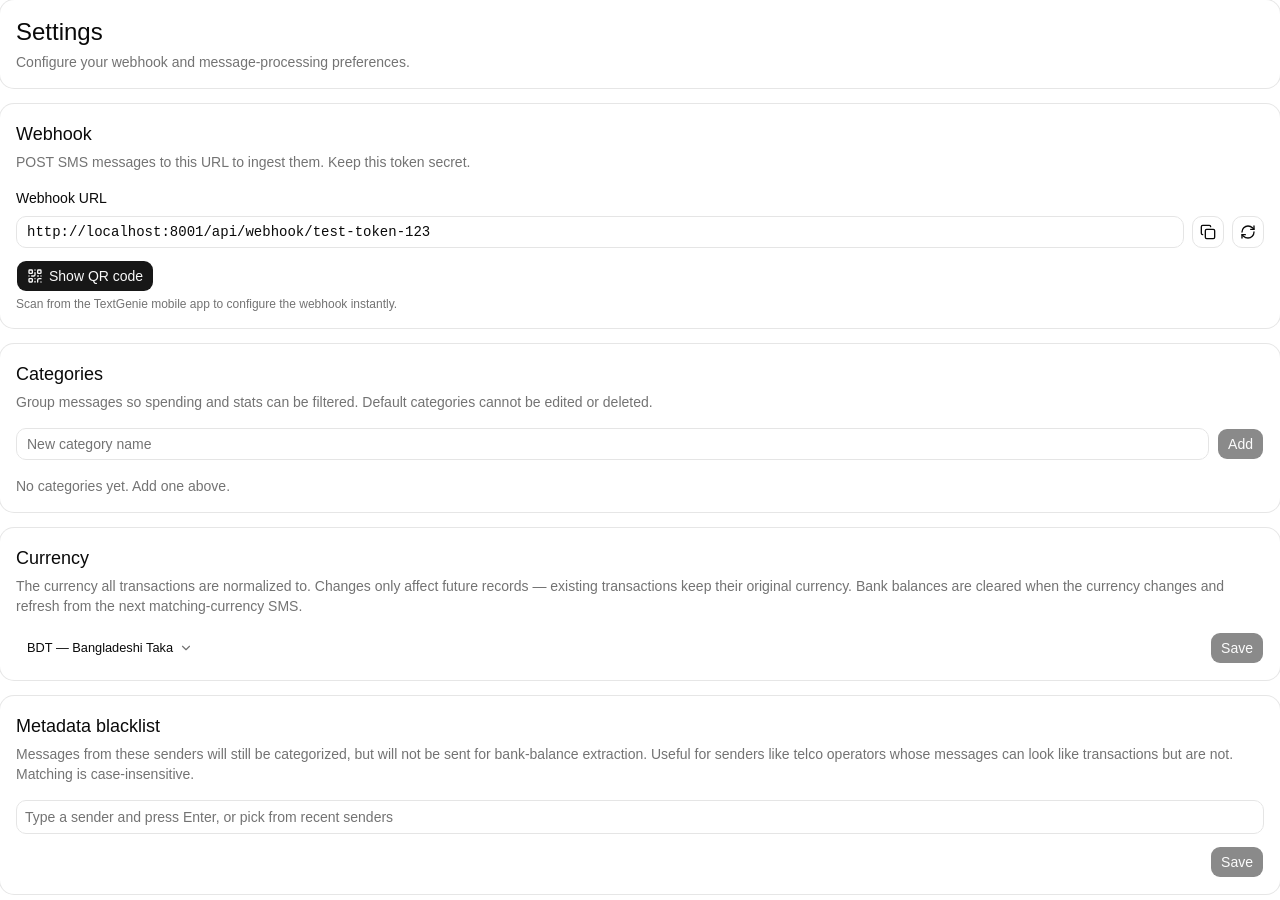
Test: SettingsPage › adds a sender chip and saves the blacklist
Type "telco" into the dropdown named "Blacklisted senders".
click(640, 817); type("telco")  # box [25, 807, 1255, 827]
Then press Enter
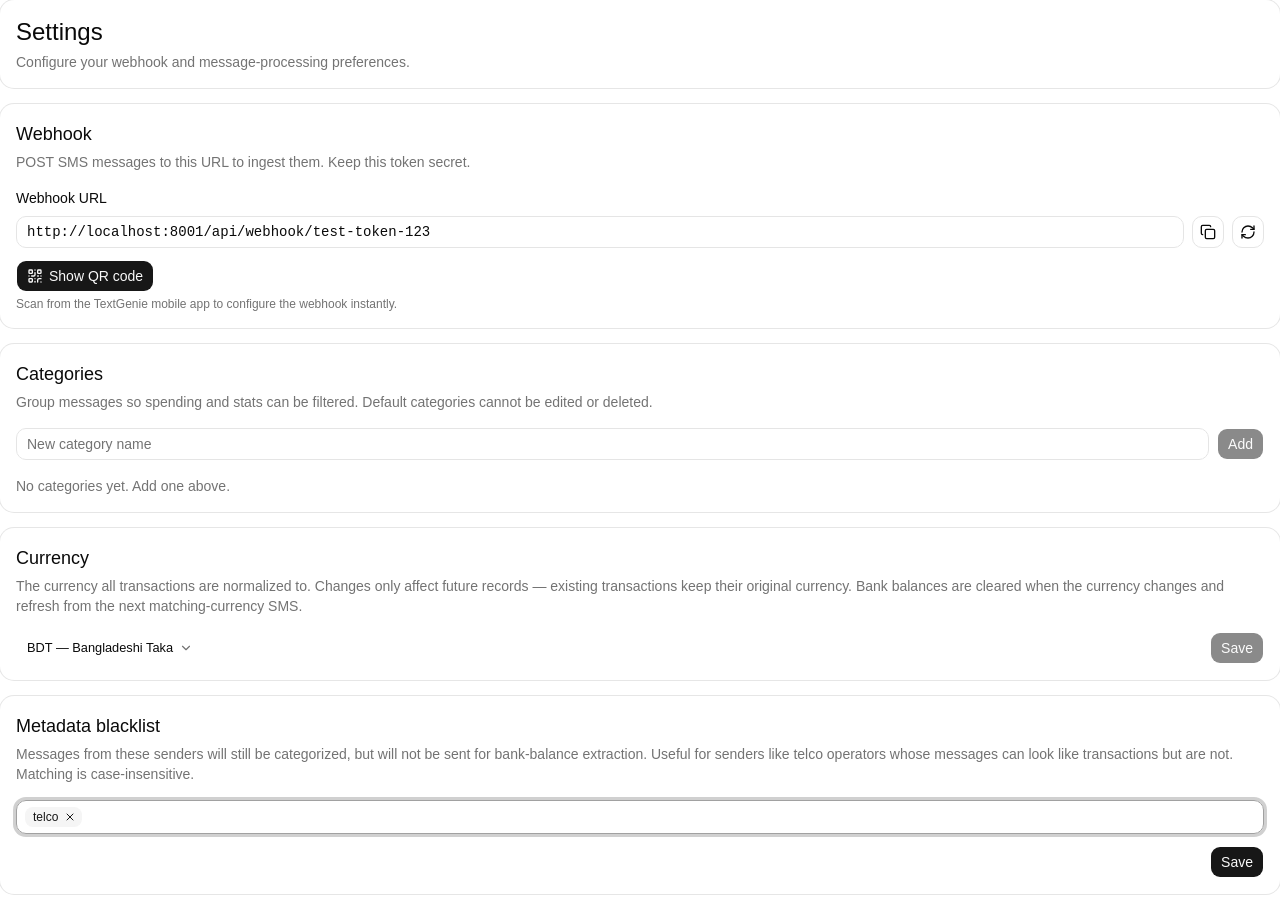
Now the text "telco" is shown, box [33, 809, 58, 825]
Click the button with aria-label "Save blacklist".
click(1237, 862)  # box [1210, 846, 1264, 878]
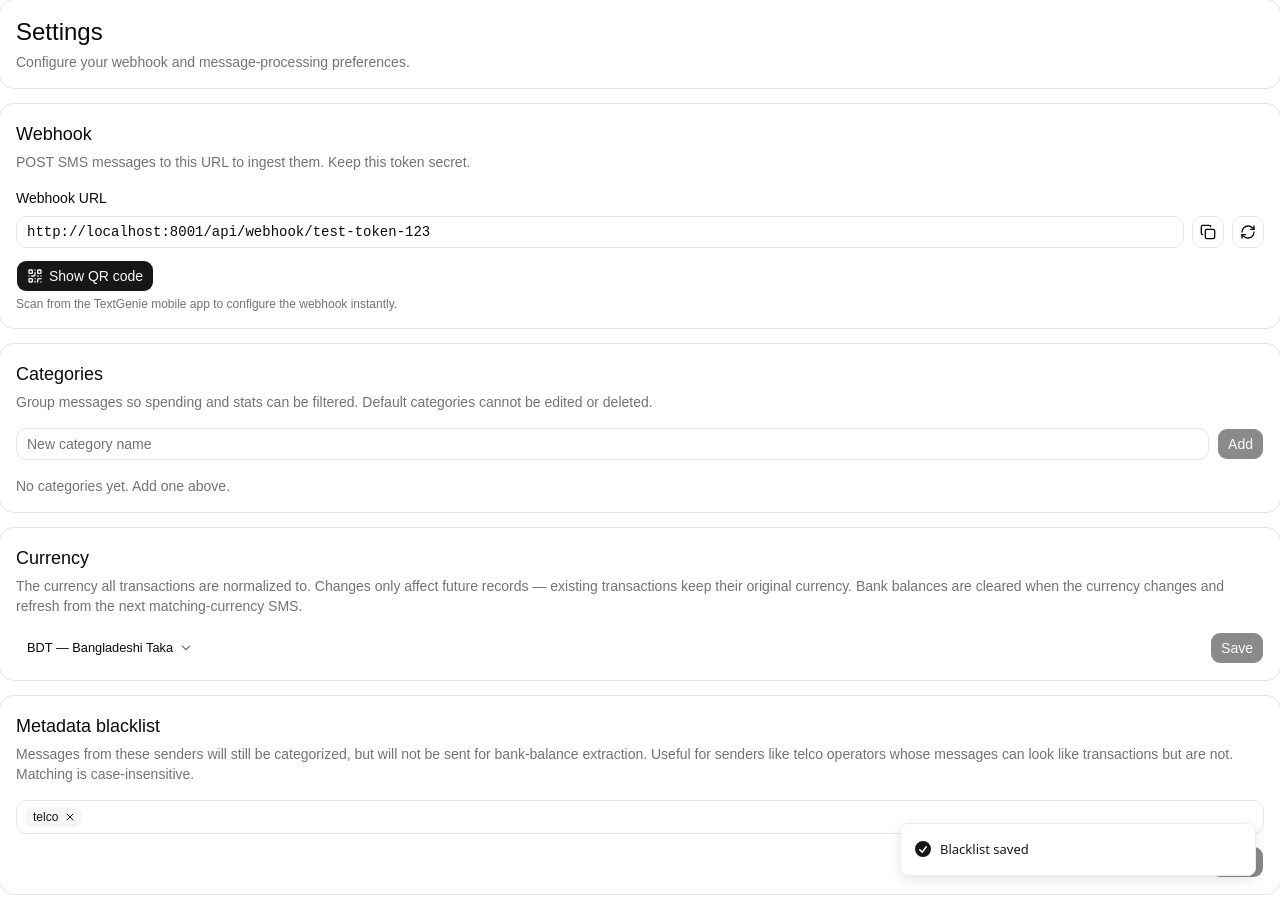
Now the text "Blacklist saved" is shown, box [940, 840, 1029, 859]
